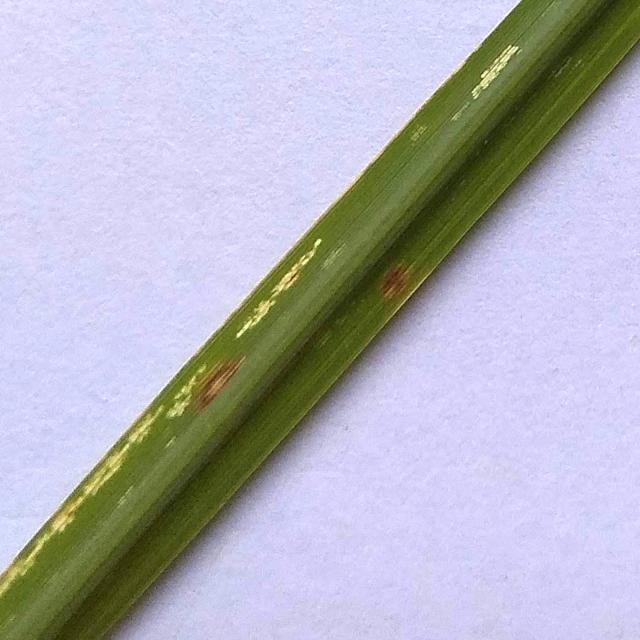Leaf blast: (0, 0, 640, 640), (190, 361, 249, 410), (366, 264, 424, 305)
